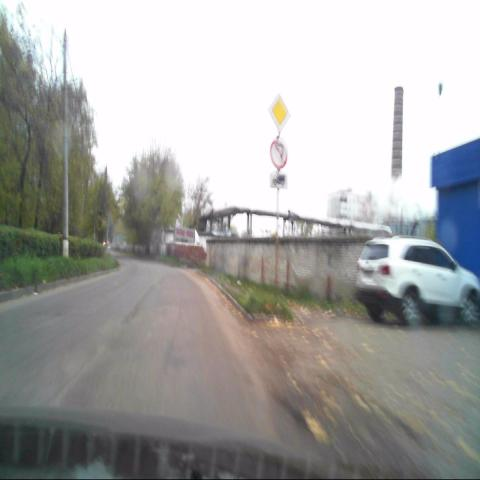3_18_2: (270, 138, 288, 168)
8_4_1: (270, 171, 286, 189)
